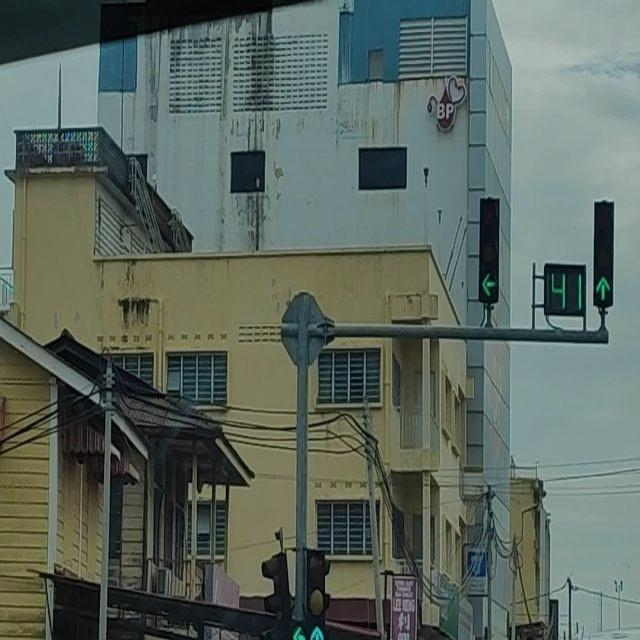Green: (592, 198, 616, 308), (478, 196, 500, 304)
